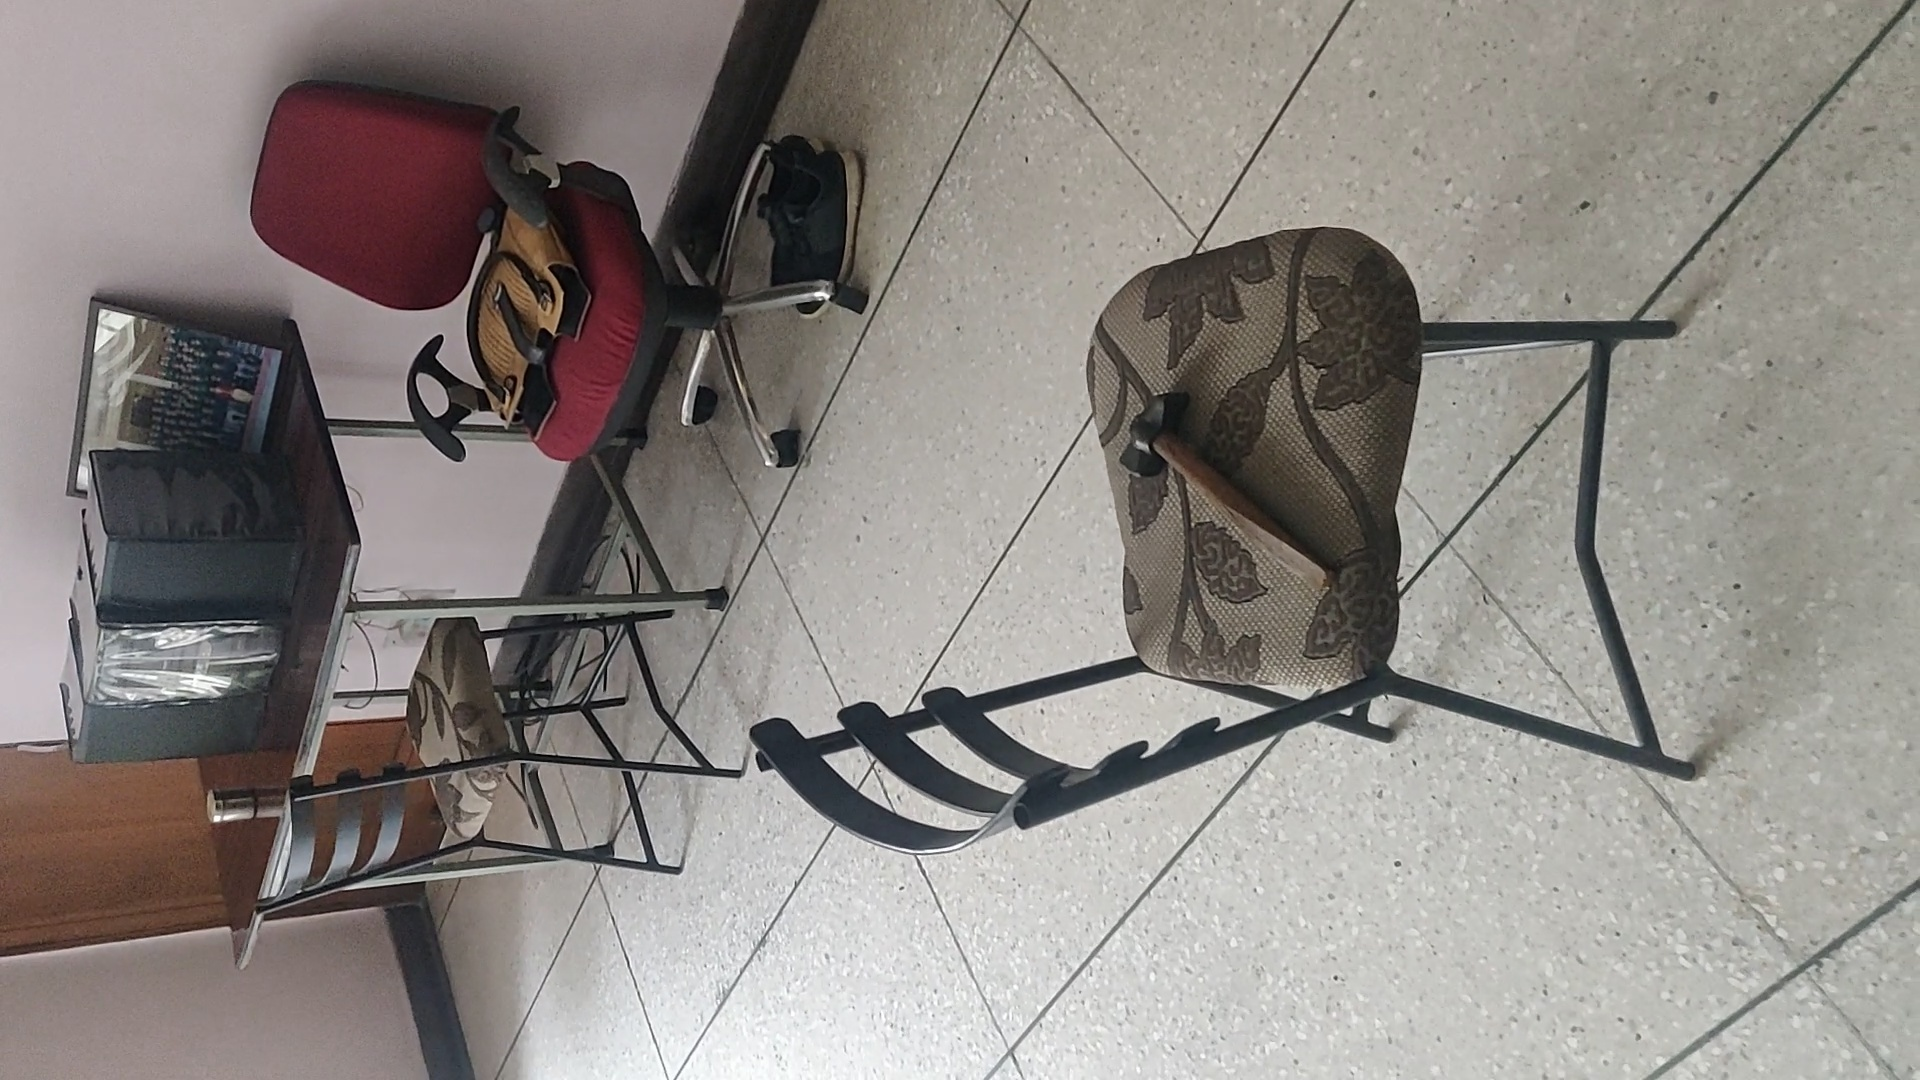hammer: (1118, 390, 1331, 589)
